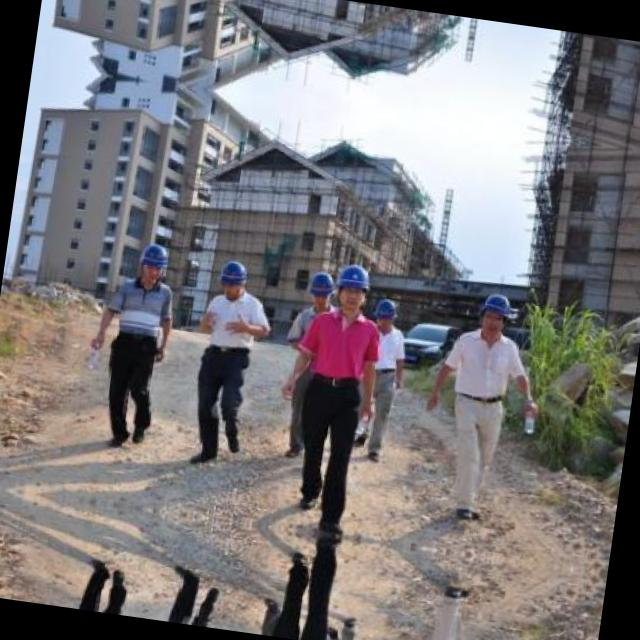helmet: (330, 258, 375, 314), (472, 289, 511, 340), (134, 240, 168, 284), (216, 256, 250, 297), (305, 266, 338, 308), (371, 292, 402, 332)
